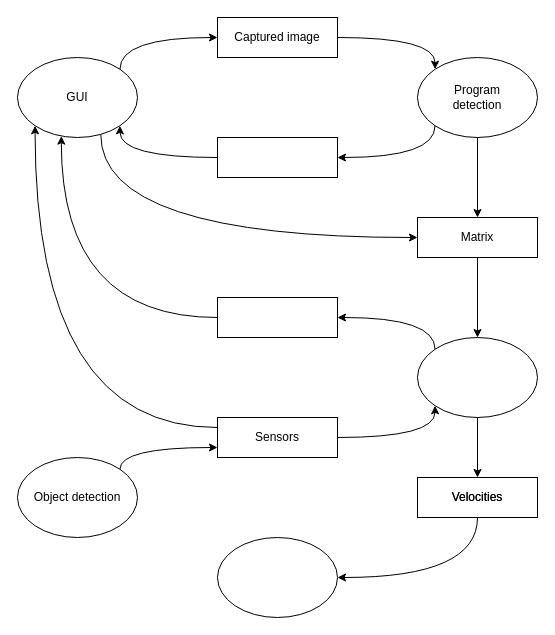
Image size: 555x635. Some labels were removed from this diagram. The centre of each missing label's shape, as x and y in pixels:
Arduino: the point at 277,577
Logic: the point at 477,377
Logic errors: the point at 277,317
Vision errors: the point at 277,157
